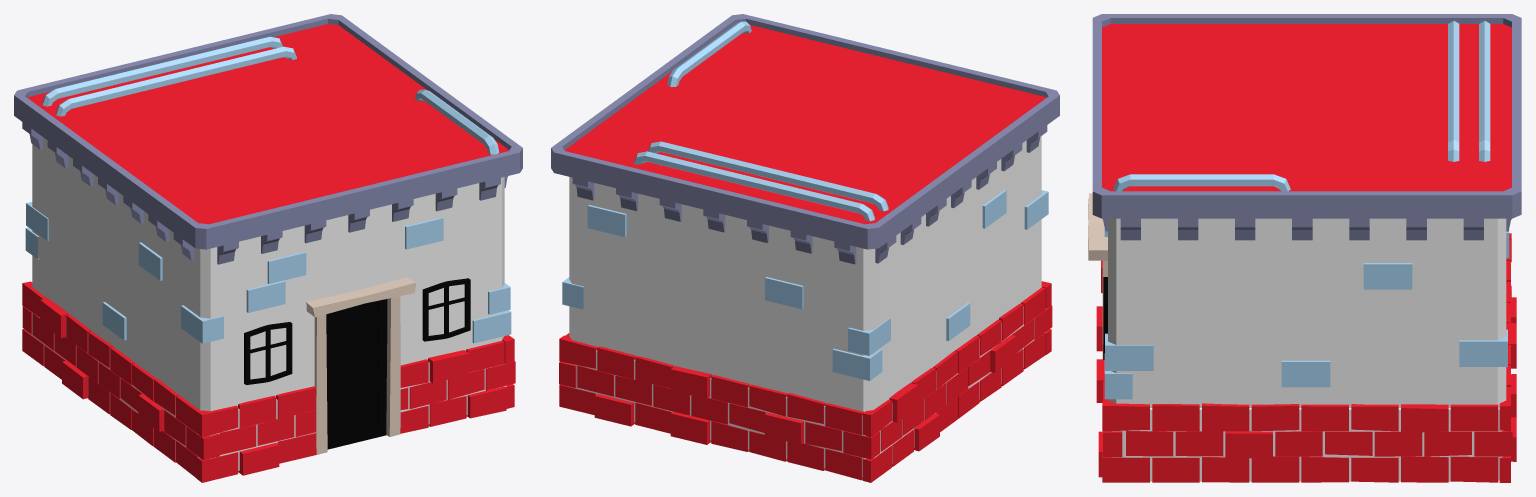
File: building_quaternius_1Story.glb
The picture shows the model from 3 angles, left to right: view 1: azimuth 30°, elevation 25°; view 2: azimuth 150°, elevation 25°; view 3: azimuth 270°, elevation 25°; orthographic projection. The views are drawn at different scales.
Bounding box in the file's own units: 2.15 × 1.67 × 2.17.
Materials: 1 (1 with a texture image).
